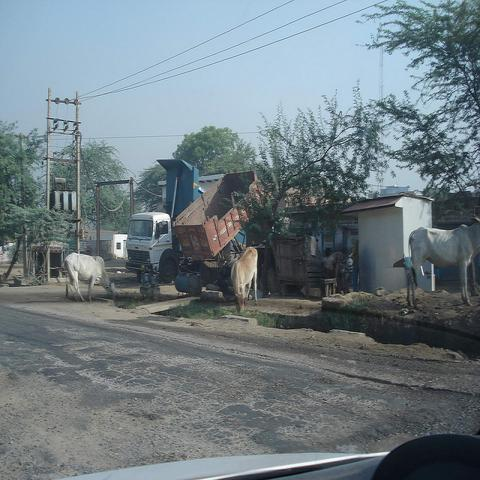car: (109, 428, 480, 470)
truck: (172, 168, 270, 296), (126, 159, 200, 282)
